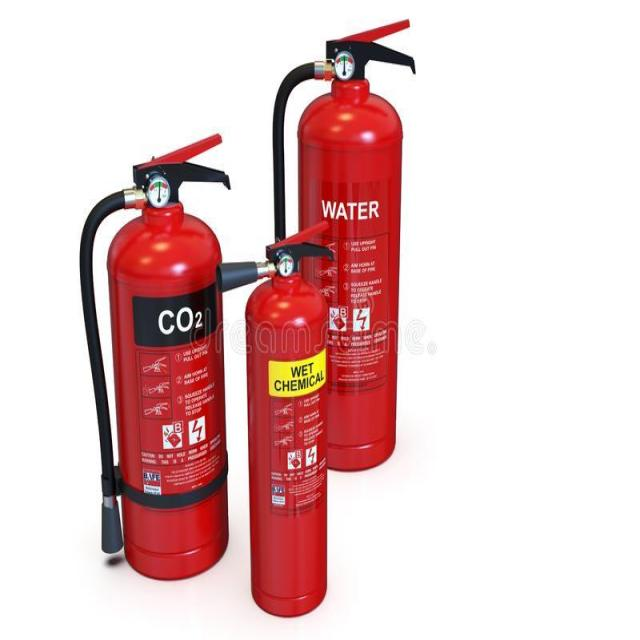fire_extinguisher: (74, 125, 238, 582), (264, 17, 418, 473), (214, 219, 339, 621)
